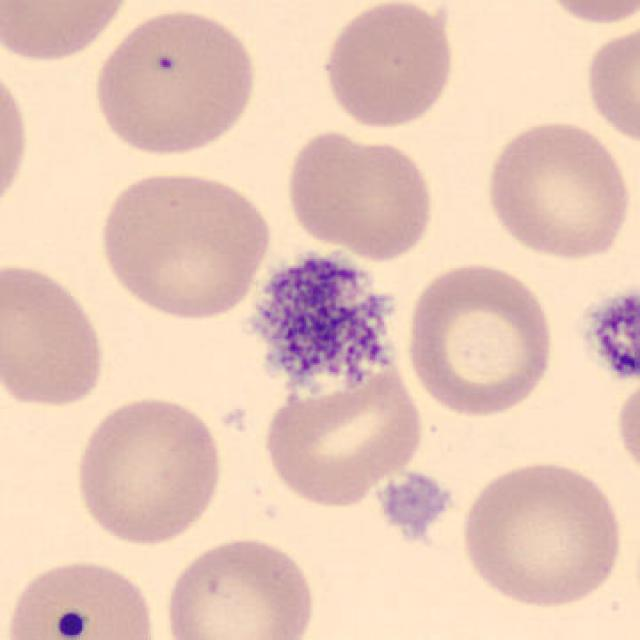Platelets: (250, 243, 400, 388), (578, 286, 640, 384), (375, 469, 455, 538), (50, 608, 89, 640)
RBC: (92, 165, 276, 322), (455, 455, 626, 612), (87, 6, 261, 160), (402, 258, 560, 420), (256, 363, 427, 510), (70, 392, 228, 548), (480, 113, 635, 263), (281, 127, 439, 264), (316, 0, 458, 132), (160, 532, 320, 640), (0, 258, 110, 412), (1, 553, 165, 640), (0, 0, 139, 65), (579, 19, 640, 147), (0, 53, 34, 224), (612, 371, 638, 488), (535, 0, 638, 28)
